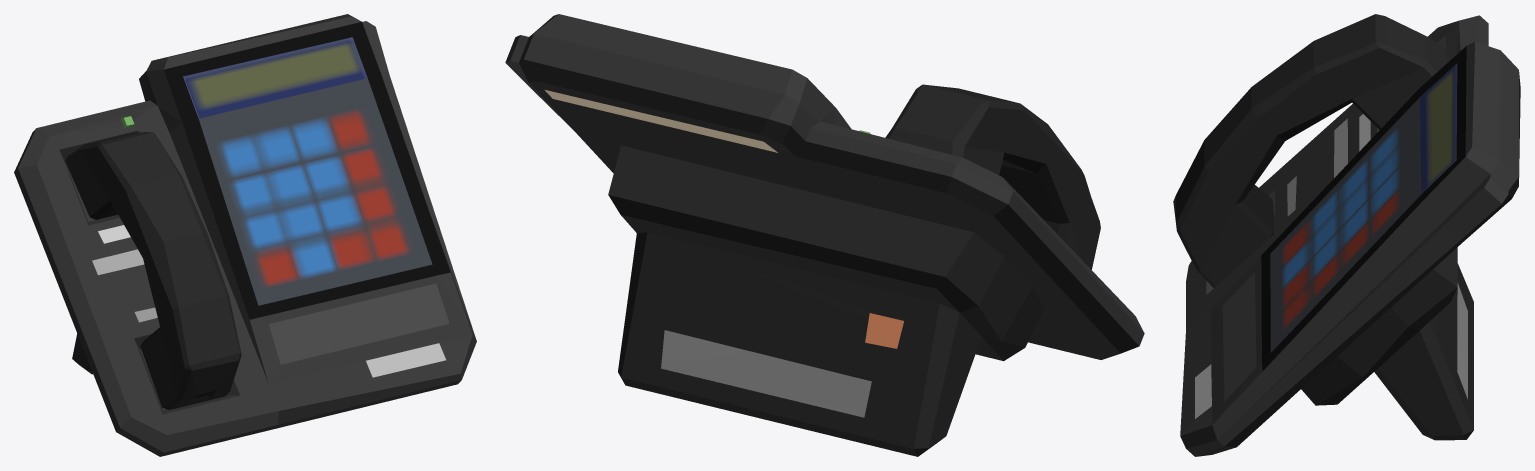
The model's file is SM_Prop_Hotel_Phone_01.fbx.
3 views of the same model, side by side, from view 1: azimuth 30°, elevation 25°; view 2: azimuth 150°, elevation 25°; view 3: azimuth 270°, elevation 25° (orthographic). The views are drawn at different scales.
Parts seen in each view (by area): view 1: SM_Prop_Hotel_Phone_01, SM_Prop_Hotel_Phone_Phone_01; view 2: SM_Prop_Hotel_Phone_01, SM_Prop_Hotel_Phone_Phone_01; view 3: SM_Prop_Hotel_Phone_01, SM_Prop_Hotel_Phone_Phone_01.
Part boxes in pixels (x1,y1,x2,y2): SM_Prop_Hotel_Phone_01: (14, 14, 476, 456); SM_Prop_Hotel_Phone_Phone_01: (65, 132, 241, 409); SM_Prop_Hotel_Phone_01: (505, 14, 1144, 456); SM_Prop_Hotel_Phone_Phone_01: (885, 84, 1100, 269); SM_Prop_Hotel_Phone_01: (1180, 15, 1520, 456); SM_Prop_Hotel_Phone_Phone_01: (1173, 14, 1445, 287).
Size of the model in its own units: 60.29 by 43.52 by 42.31.
1 material, 1 textured.
